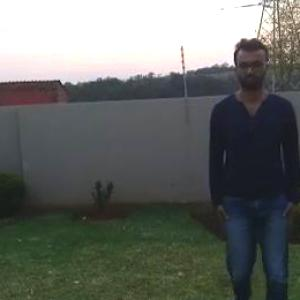follow: (210, 33, 299, 299)
